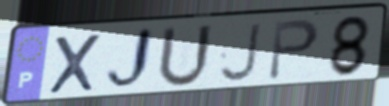8: (327, 13, 373, 78)
J: (103, 25, 157, 95), (217, 21, 263, 85)
P: (266, 17, 322, 83)
U: (154, 23, 215, 91)
X: (46, 31, 104, 97)
